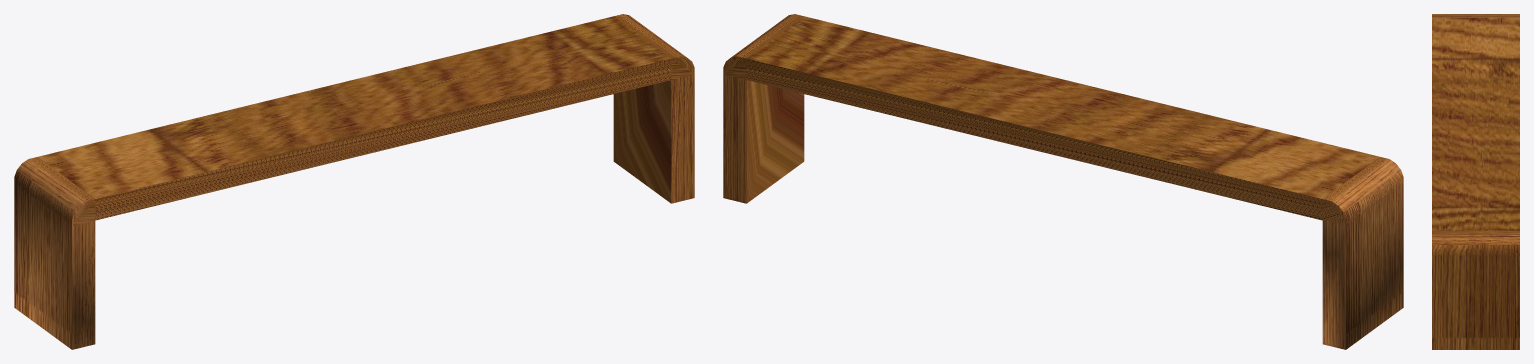
Rendered from banca.obj.
3 renders of one model, left to right at view 1: azimuth 30°, elevation 25°; view 2: azimuth 150°, elevation 25°; view 3: azimuth 270°, elevation 25°, orthographic. The views are drawn at different scales.
Visible parts, largest first — view 1: Banca; view 2: Banca; view 3: Banca.
Part boxes in pixels (left/top/right/bottom): Banca: left=14, top=14, right=694, bottom=349; Banca: left=723, top=14, right=1403, bottom=349; Banca: left=1432, top=14, right=1519, bottom=349.
Size of the model in its own units: 6.22 by 1.39 by 1.
Materials: 1 (1 with a texture image).
